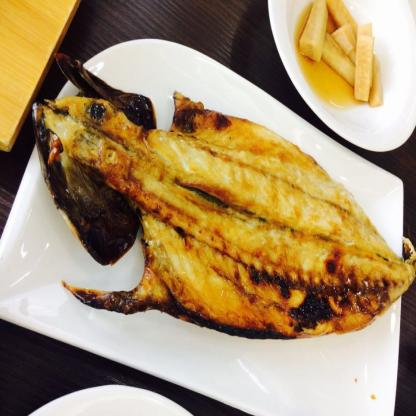Peixe: (0, 96, 416, 341)
